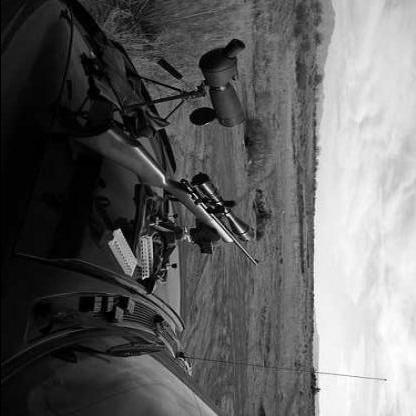rifle: (49, 108, 279, 280)
